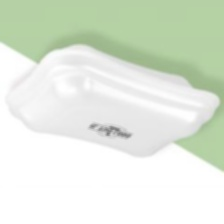foam_box: (0, 40, 224, 162)
